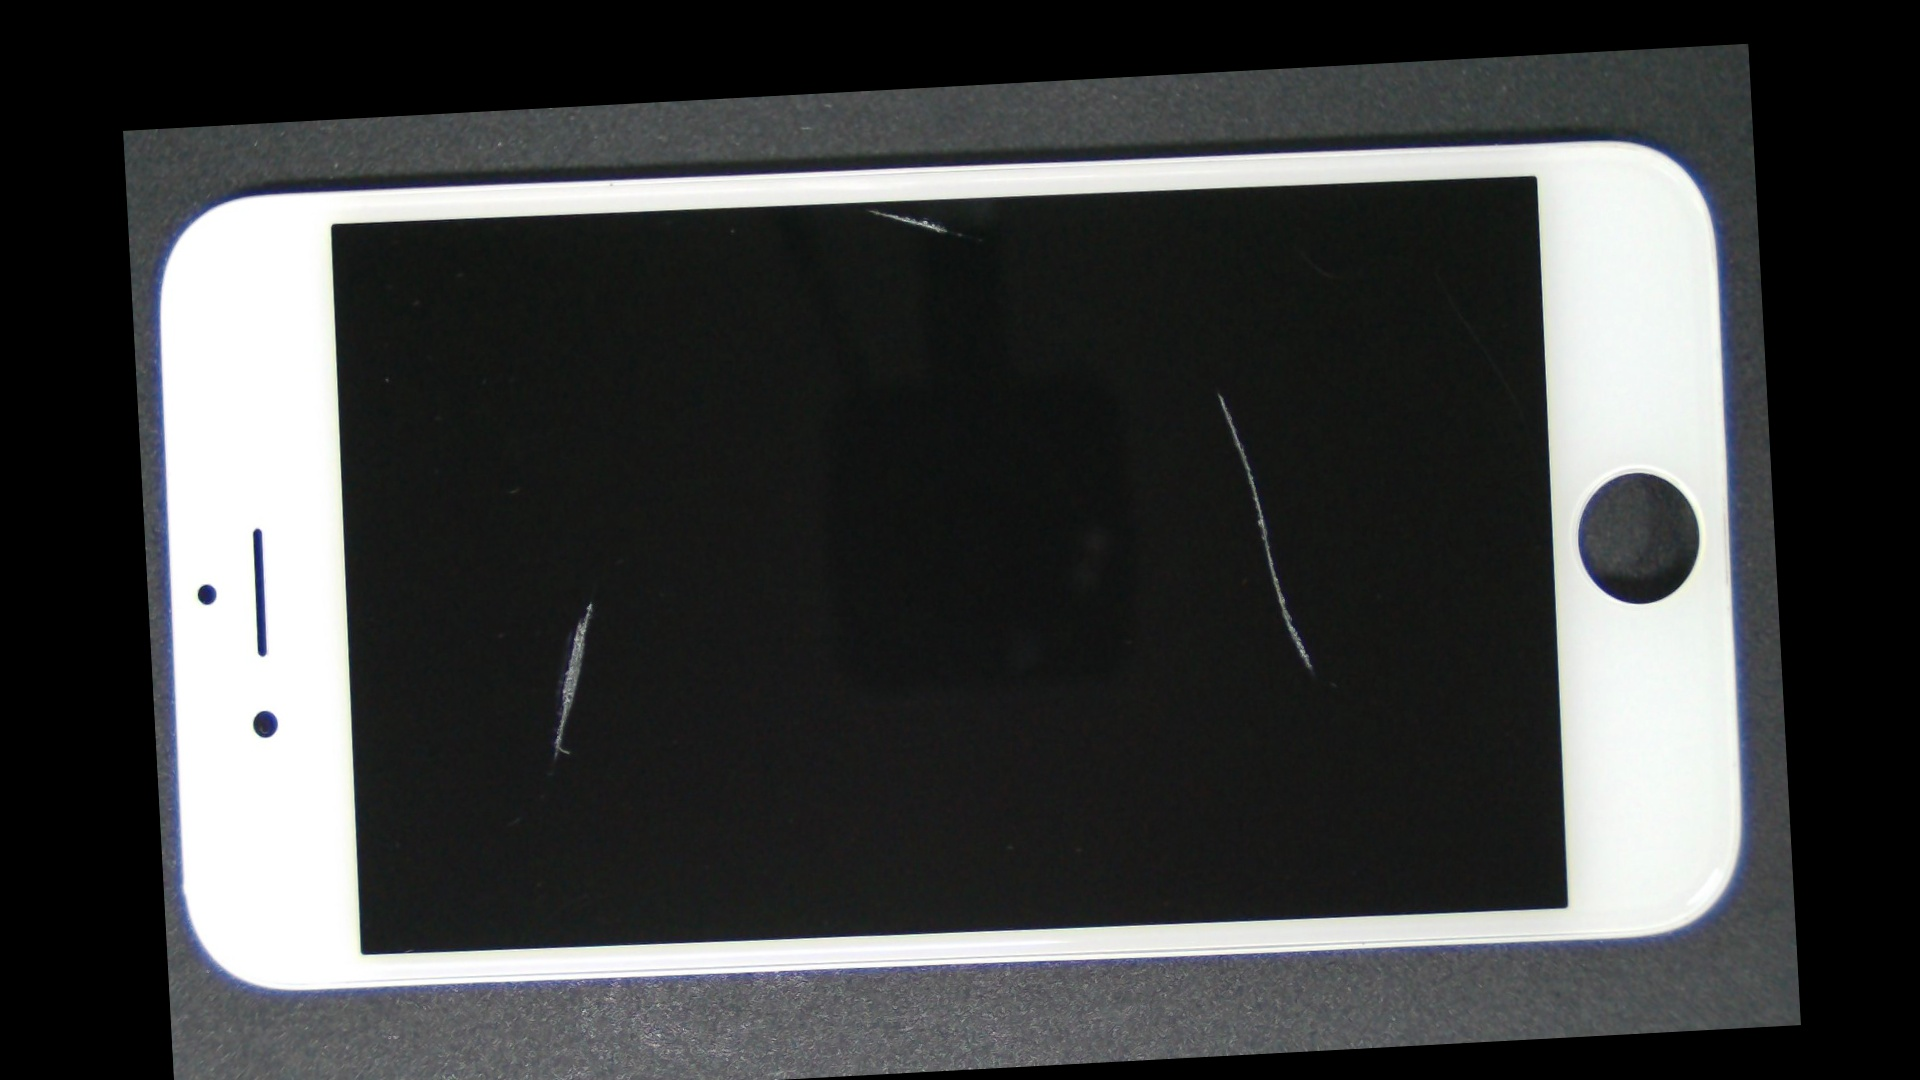oil: (670, 203, 1763, 582), (357, 342, 824, 862), (498, 129, 1249, 287)
